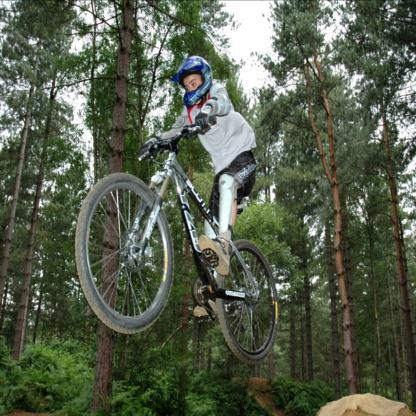Helmet: (176, 55, 211, 110)
